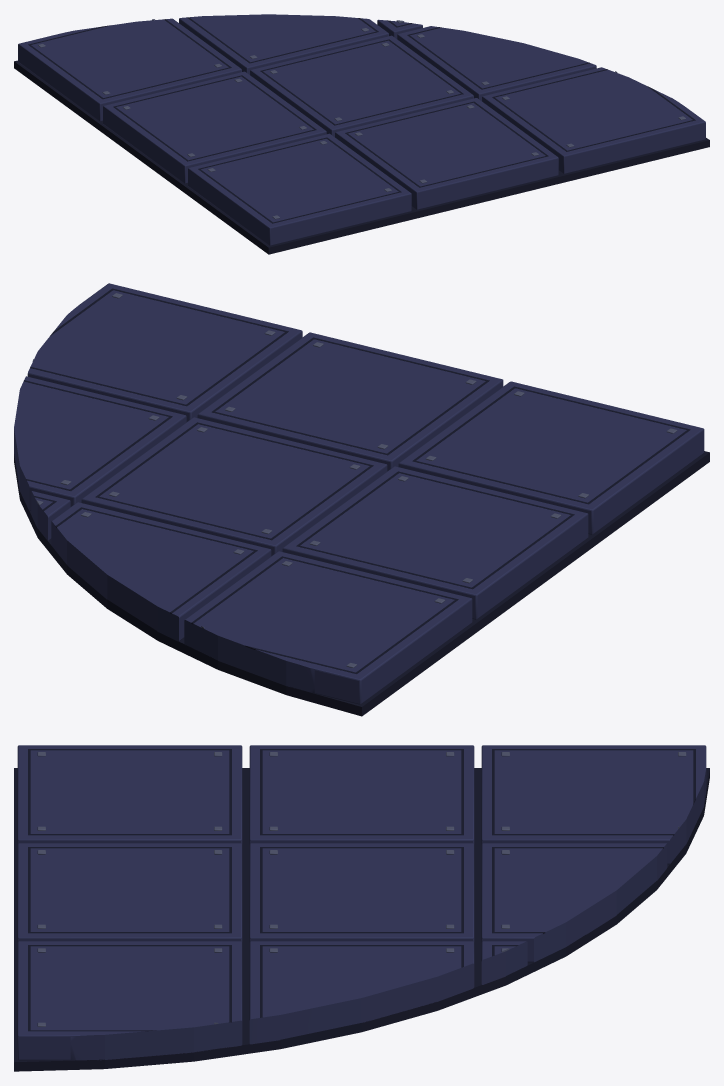
The model's file is roof.arc3.plate.glb.
3 renders of one model, top to bottom at view 1: azimuth 30°, elevation 25°; view 2: azimuth 150°, elevation 25°; view 3: azimuth 270°, elevation 25°, orthographic. The views are drawn at different scales.
Visible parts, largest first — view 1: GEO-roof.arc3.plate; view 2: GEO-roof.arc3.plate; view 3: GEO-roof.arc3.plate.
Part boxes in pixels (x1=…): GEO-roof.arc3.plate: x1=14, y1=14, x2=709, y2=254; GEO-roof.arc3.plate: x1=14, y1=283, x2=709, y2=716; GEO-roof.arc3.plate: x1=14, y1=745, x2=709, y2=1071.
Bounding box in the file's own units: 3 × 0.17 × 3.
